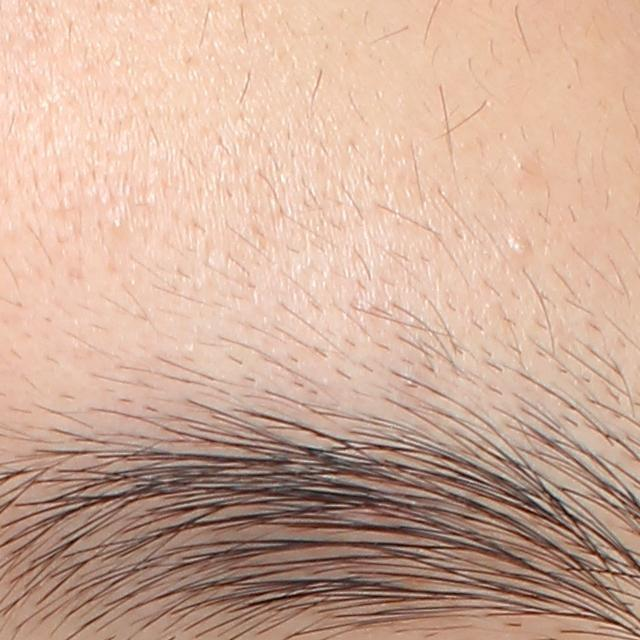comedo: (508, 232, 531, 258), (109, 214, 125, 234)
